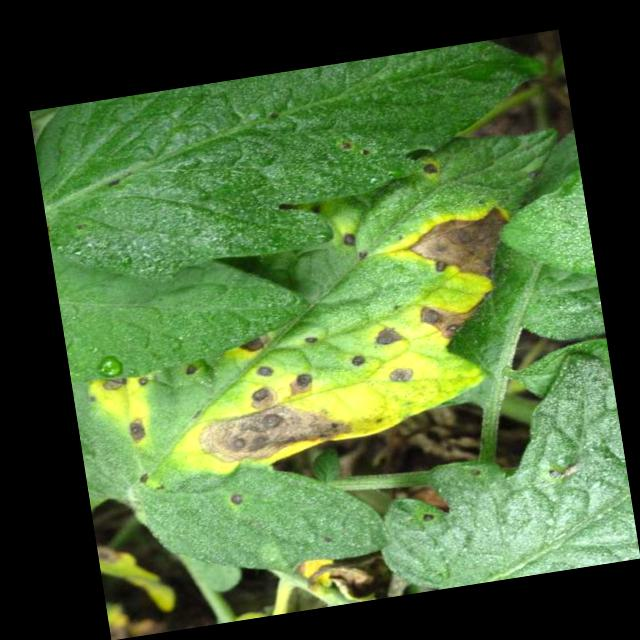Early_blight: (193, 394, 361, 476), (382, 201, 519, 295), (415, 287, 505, 346), (247, 381, 281, 411), (286, 370, 318, 399), (235, 335, 272, 360), (125, 415, 153, 446), (373, 323, 406, 349), (387, 363, 418, 388), (100, 374, 129, 396), (419, 158, 443, 184), (253, 362, 277, 383), (341, 229, 361, 250), (227, 492, 247, 508), (351, 354, 369, 370), (183, 362, 201, 378), (303, 334, 322, 347)
